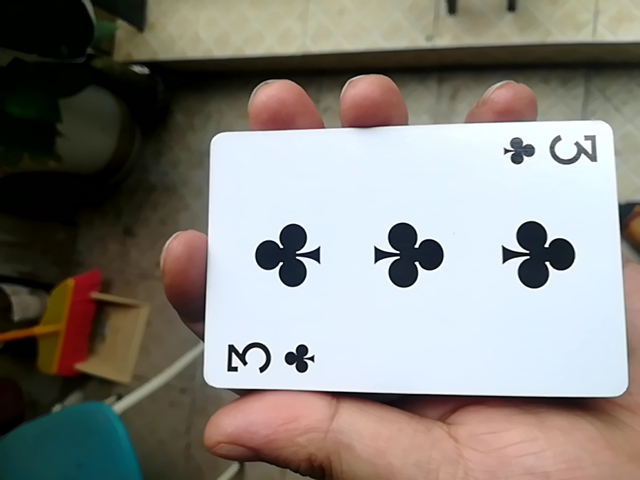mh 3: (186, 123, 629, 406)
